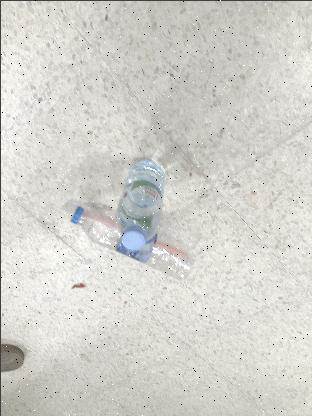Plastic Bottle: (115, 154, 165, 250)
